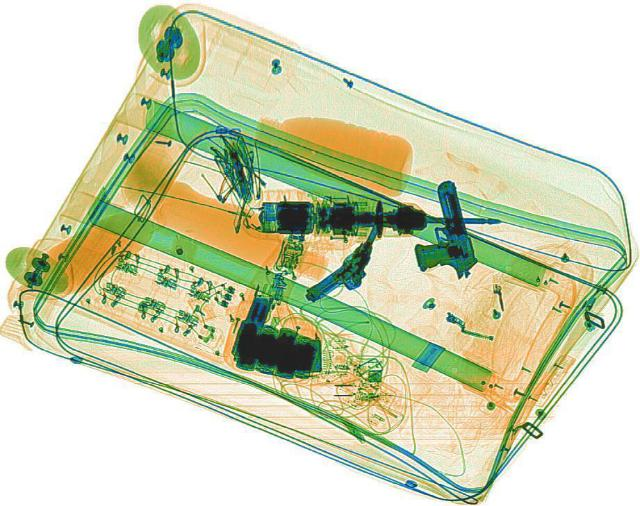Gun: (292, 223, 406, 311), (394, 177, 478, 281)
